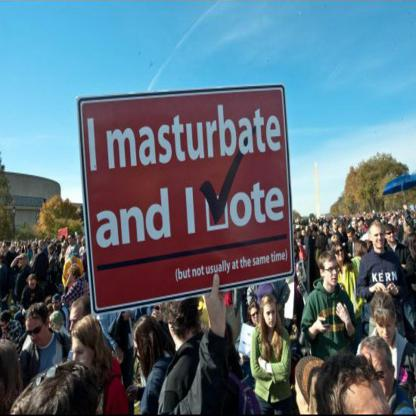face: (361, 354, 393, 409), (73, 342, 96, 378), (71, 314, 87, 348), (376, 315, 395, 343), (27, 322, 49, 346), (136, 344, 153, 367), (264, 306, 277, 328), (325, 265, 338, 285), (372, 230, 385, 249), (252, 311, 261, 327), (336, 247, 345, 261), (1, 322, 10, 336), (387, 231, 395, 242), (53, 299, 60, 311), (30, 282, 37, 290), (348, 235, 354, 242), (334, 221, 339, 229), (68, 236, 73, 244), (353, 223, 358, 231), (19, 260, 23, 269), (325, 228, 330, 235), (49, 249, 53, 255), (3, 244, 7, 250), (361, 218, 364, 224), (63, 246, 66, 252), (400, 220, 403, 225)
